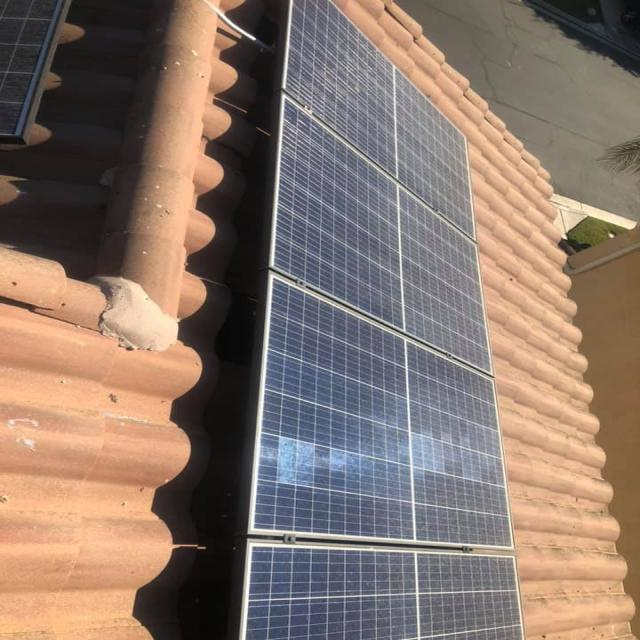dust-solar-panel: (232, 0, 525, 640)
